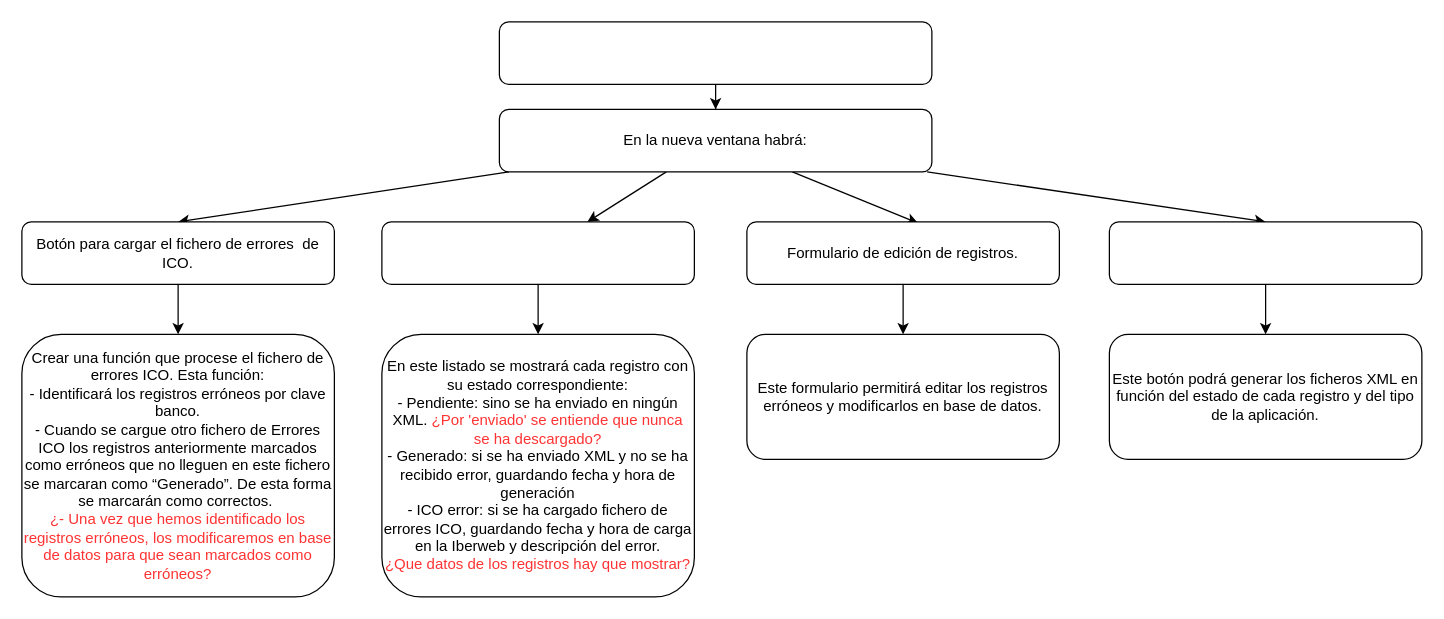
Some shapes in this 1444 by 619 pixel diagram are drawn without their labels. Here are the shapes that lost their labels. From the top down, the centre of each, then its label:
At (x=715, y=52): "Crear botón Generación XML. Al hacer clic, se abrirá una nueva ventana.".
At (x=537, y=252): "Listado de los registros del fichero COVID".
At (x=1265, y=252): "Botón 'Generar XML'".
